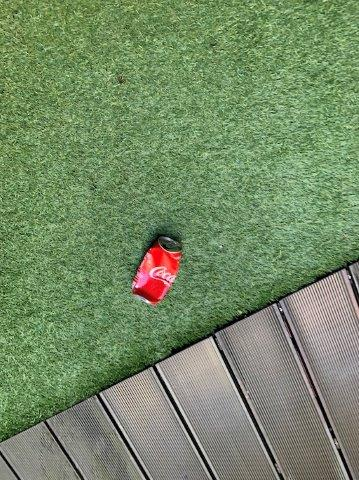kaleng: (134, 237, 180, 304)
